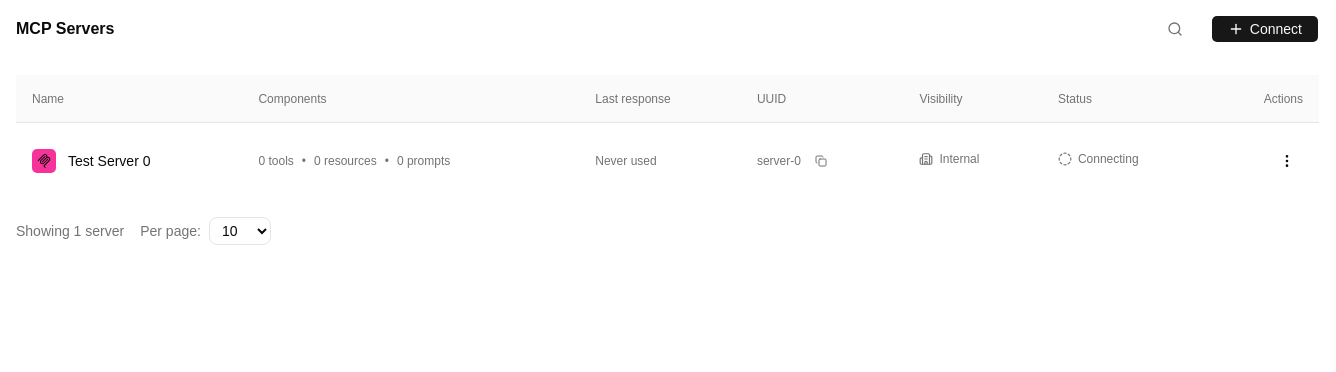
Test: Servers › no longer offers Test Connection in the actions menu (moved to the details drawer)
The width and height of the screenshot is (1336, 372).
expect the text "Test Server 0" is shown: met, box [68,151,150,171]
What coordinates should you click on to do the following:
click the button named "actions for"
I would click on:
 (1287, 161)
Its box is [1271,145,1303,177].
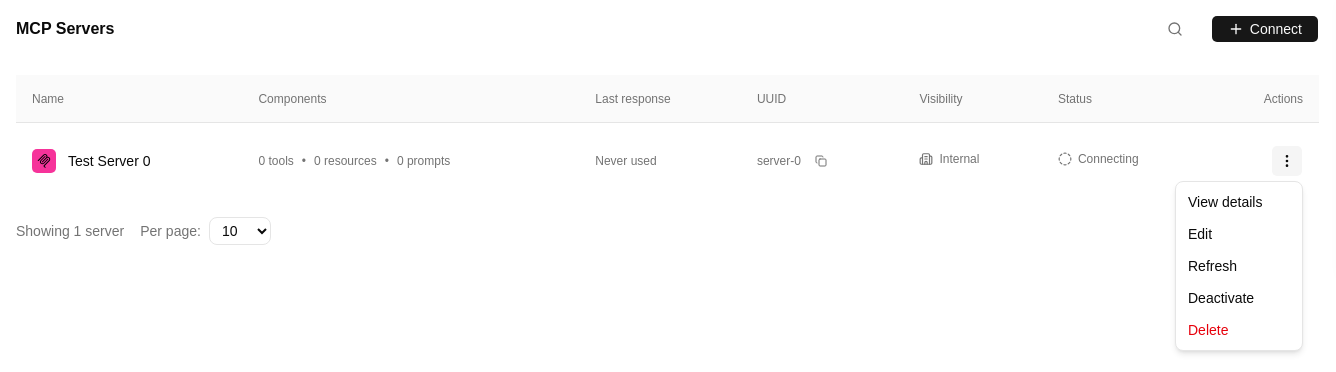
expect the menu item "Edit" is shown: met, box [1188,226,1212,242]
